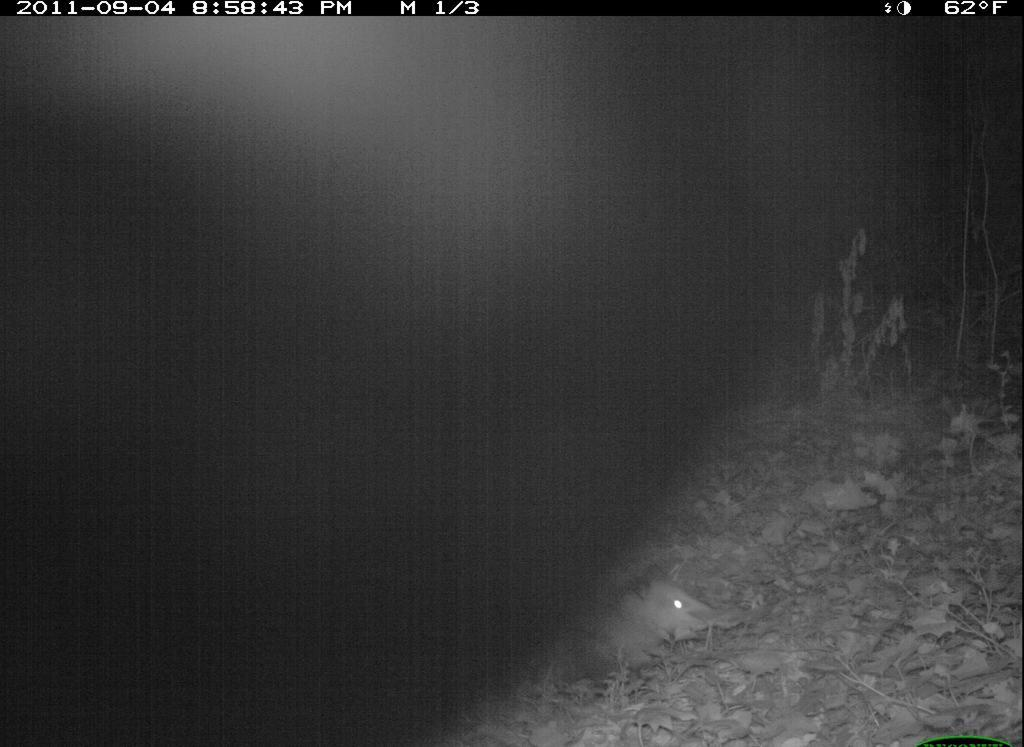opossum: (543, 559, 728, 698)
